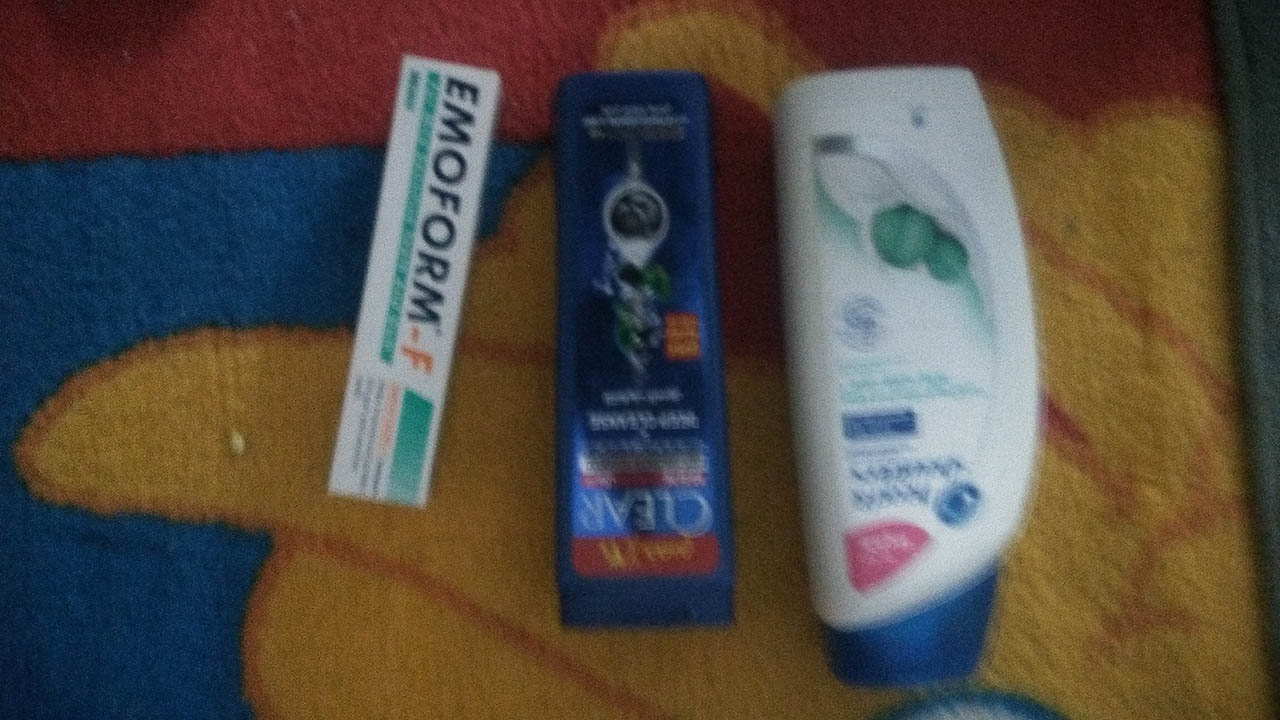Shampoo-Clear 4.7$: (527, 52, 732, 646)
Toothpaste-F 1.5$: (321, 19, 481, 539)
shampoo-green 4.5$: (758, 49, 1057, 683)
